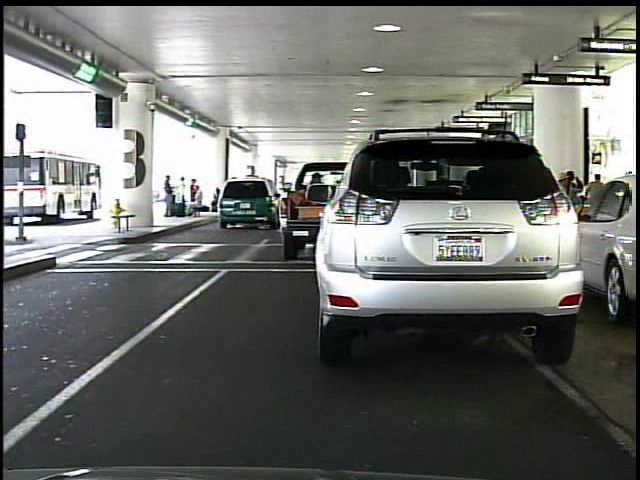person: (589, 171, 612, 232), (159, 168, 179, 221), (567, 168, 568, 205)
